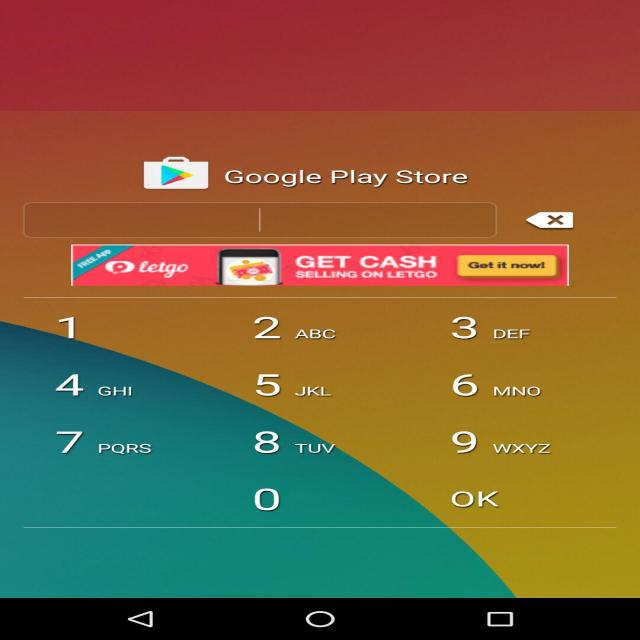button: (420, 350, 548, 409), (420, 409, 560, 461), (227, 310, 350, 354), (415, 310, 544, 350), (248, 416, 360, 460), (239, 365, 350, 409), (43, 424, 156, 461), (46, 362, 142, 403), (425, 483, 528, 513), (42, 314, 104, 358), (512, 202, 582, 236), (244, 482, 306, 517)
icon: (508, 202, 585, 236)
image: (68, 246, 567, 286), (137, 159, 213, 192)
text: (219, 163, 473, 192), (433, 415, 494, 462), (46, 314, 106, 359), (240, 420, 298, 460), (233, 313, 287, 354), (41, 364, 98, 402), (239, 370, 292, 410), (426, 312, 484, 348), (433, 487, 519, 511), (240, 483, 300, 516), (41, 428, 98, 461), (289, 320, 346, 350), (284, 436, 360, 458), (94, 433, 158, 458), (288, 380, 348, 406), (444, 372, 486, 408), (488, 439, 562, 459), (92, 379, 144, 404), (484, 324, 532, 349), (488, 384, 544, 404)
